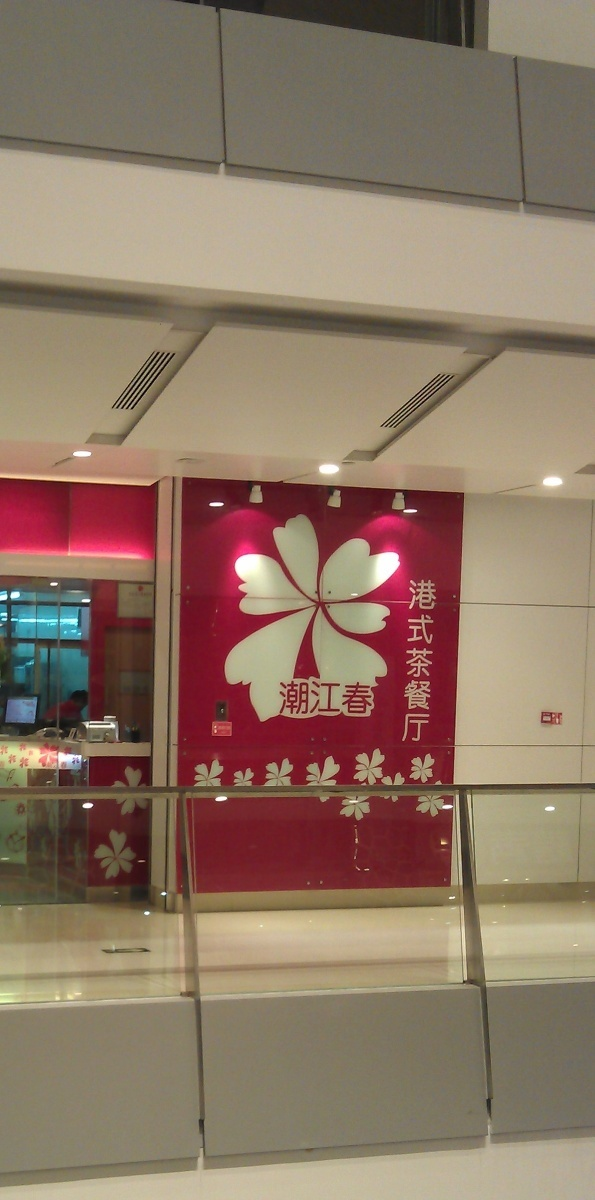text: (417, 577, 432, 742), (410, 577, 416, 742), (433, 577, 438, 742), (289, 679, 304, 720), (305, 679, 320, 720), (321, 679, 336, 720), (337, 679, 352, 720), (353, 679, 368, 720), (279, 679, 288, 720), (369, 679, 375, 720)
